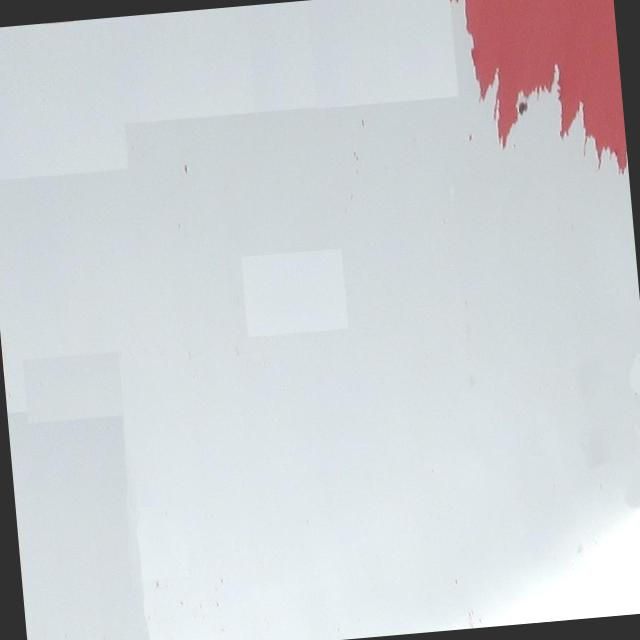surface_peeling: (441, 0, 628, 190)
